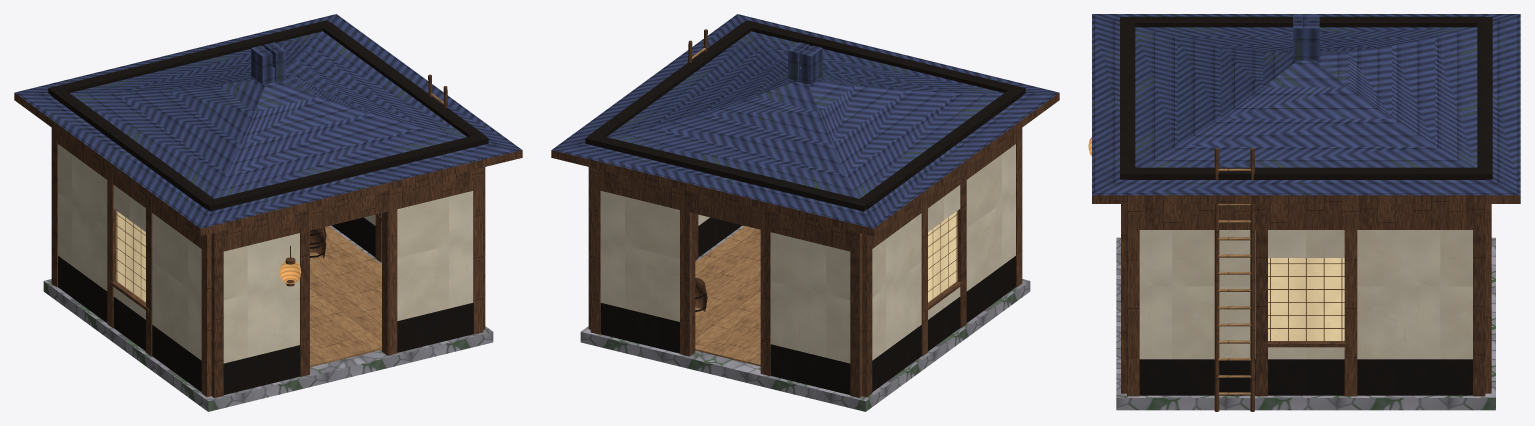
The model's file is storehouse.gltf.
The picture shows the model from 3 angles, left to right: view 1: azimuth 30°, elevation 25°; view 2: azimuth 150°, elevation 25°; view 3: azimuth 270°, elevation 25°; orthographic projection. The views are drawn at different scales.
Visible parts, largest first — view 1: Building; view 2: Building; view 3: Building.
Part boxes in pixels (x1,y1,x2,y2): Building: (14, 14, 522, 411); Building: (551, 14, 1059, 411); Building: (1088, 14, 1520, 411).
Size of the model in its own units: 9.6 by 7.62 by 9.68.
Materials: 8 (8 with a texture image).
